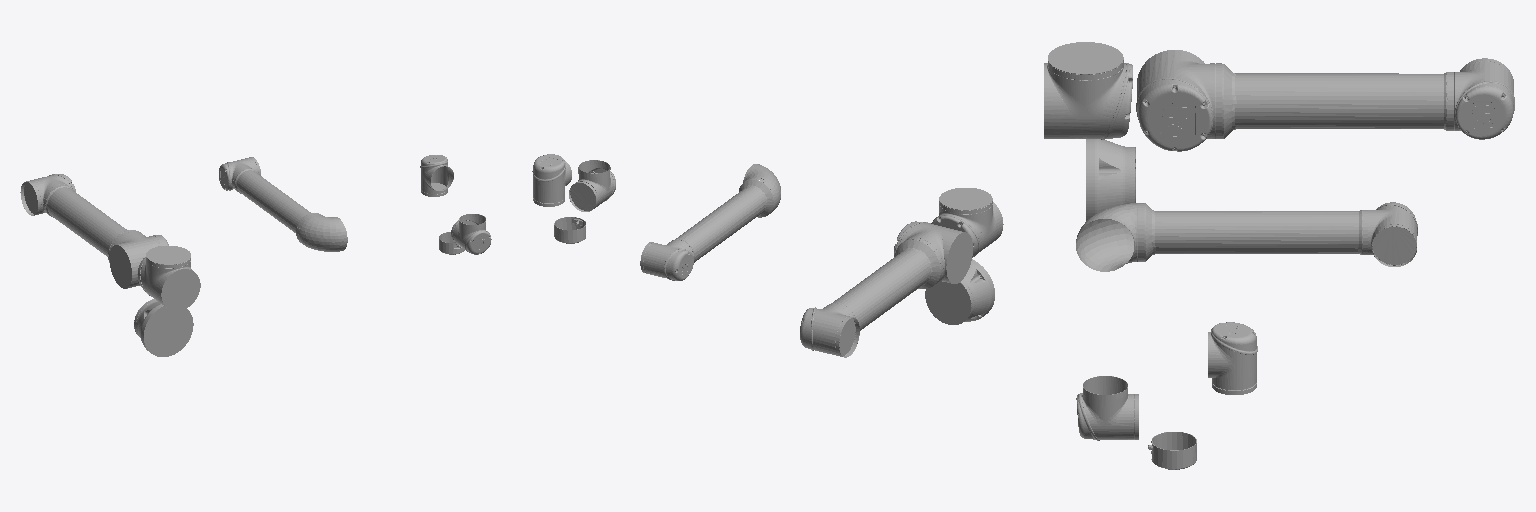
robot.urdf — UniversalRobots_UR10e:
<?xml version="1.0" ?>
<robot name="UniversalRobots_UR10e" xmlns:xacro="http://ros.org/wiki/xacro">
  <link name="base_link">
    <visual>
      <geometry>
        <mesh filename="package://UR10e/visual/base.dae"/>
      </geometry>
      <material name="LightGrey">
        <color rgba="0.7 0.7 0.7 1.0"/>
      </material>
    </visual>
    <collision>
      <geometry>
        <mesh filename="package://UR10e/collision/base.stl"/>
      </geometry>
    </collision>
    <inertial>
      <mass value="4.0"/>
      <origin rpy="0 0 0" xyz="0.0 0.0 0.0"/>
      <inertia ixx="0.0061063308908" ixy="0.0" ixz="0.0" iyy="0.0061063308908" iyz="0.0" izz="0.01125"/>
    </inertial>
  </link>
  <joint name="Joint1" type="revolute">
    <parent link="base_link"/>
    <child link="shoulder_link"/>
    <origin rpy="0.0 0.0 0.0" xyz="0.0 0.0 0.181"/>
    <axis xyz="0 0 1"/>
    <limit effort="330.0" lower="-6.28318530718" upper="6.28318530718" velocity="3.14"/>
    <dynamics damping="0.0" friction="0.0"/>
  </joint>
  <link name="shoulder_link">
    <visual>
      <geometry>
        <mesh filename="package://UR10e/visual/shoulder.dae"/>
      </geometry>
      <material name="LightGrey">
        <color rgba="0.7 0.7 0.7 1.0"/>
      </material>
    </visual>
    <collision>
      <geometry>
        <mesh filename="package://UR10e/collision/shoulder.stl"/>
      </geometry>
    </collision>
    <inertial>
      <mass value="7.778"/>
      <origin rpy="0 0 0" xyz="0.0 0.0 0.0"/>
      <inertia ixx="0.0314743125769" ixy="0.0" ixz="0.0" iyy="0.0314743125769" iyz="0.0" izz="0.021875625"/>
    </inertial>
  </link>
  <joint name="Joint2" type="revolute">
    <parent link="shoulder_link"/>
    <child link="upper_arm_link"/>
    <origin rpy="0.0 1.57079632679 0.0" xyz="0.0 0.176 0.0"/>
    <axis xyz="0 1 0"/>
    <limit effort="330.0" lower="-6.28318530718" upper="6.28318530718" velocity="3.14"/>
    <dynamics damping="0.0" friction="0.0"/>
  </joint>
  <link name="upper_arm_link">
    <visual>
      <geometry>
        <mesh filename="package://UR10e/visual/upperarm.dae"/>
      </geometry>
      <material name="LightGrey">
        <color rgba="0.7 0.7 0.7 1.0"/>
      </material>
    </visual>
    <collision>
      <geometry>
        <mesh filename="package://UR10e/collision/upperarm.stl"/>
      </geometry>
    </collision>
    <inertial>
      <mass value="12.93"/>
      <origin rpy="0 0 0" xyz="0.0 0.0 0.3065"/>
      <inertia ixx="0.42307374077" ixy="0.0" ixz="0.0" iyy="0.42307374077" iyz="0.0" izz="0.036365625"/>
    </inertial>
  </link>
  <joint name="Joint3" type="revolute">
    <parent link="upper_arm_link"/>
    <child link="forearm_link"/>
    <origin rpy="0.0 0.0 0.0" xyz="0.0 -0.137 0.613"/>
    <axis xyz="0 1 0"/>
    <limit effort="150.0" lower="-3.14159265359" upper="3.14159265359" velocity="3.14"/>
    <dynamics damping="0.0" friction="0.0"/>
  </joint>
  <link name="forearm_link">
    <visual>
      <geometry>
        <mesh filename="package://UR10e/visual/forearm.dae"/>
      </geometry>
      <material name="LightGrey">
        <color rgba="0.7 0.7 0.7 1.0"/>
      </material>
    </visual>
    <collision>
      <geometry>
        <mesh filename="package://UR10e/collision/forearm.stl"/>
      </geometry>
    </collision>
    <inertial>
      <mass value="3.87"/>
      <origin rpy="0 0 0" xyz="0.0 0.0 0.2855"/>
      <inertia ixx="0.110590365764" ixy="0.0" ixz="0.0" iyy="0.110590365764" iyz="0.0" izz="0.010884375"/>
    </inertial>
  </link>
  <joint name="Joint4" type="revolute">
    <parent link="forearm_link"/>
    <child link="wrist_1_link"/>
    <origin rpy="0.0 1.57079632679 0.0" xyz="0.0 0.0 0.571"/>
    <axis xyz="0 1 0"/>
    <limit effort="54.0" lower="-6.28318530718" upper="6.28318530718" velocity="6.28"/>
    <dynamics damping="0.0" friction="0.0"/>
  </joint>
  <link name="wrist_1_link">
    <visual>
      <geometry>
        <mesh filename="package://UR10e/visual/wrist1.dae"/>
      </geometry>
      <material name="LightGrey">
        <color rgba="0.7 0.7 0.7 1.0"/>
      </material>
    </visual>
    <collision>
      <geometry>
        <mesh filename="package://UR10e/collision/wrist1.stl"/>
      </geometry>
    </collision>
    <inertial>
      <mass value="1.96"/>
      <origin rpy="0 0 0" xyz="0.0 0.135 0.0"/>
      <inertia ixx="0.0051082479567" ixy="0.0" ixz="0.0" iyy="0.0051082479567" iyz="0.0" izz="0.0055125"/>
    </inertial>
  </link>
  <joint name="Joint5" type="revolute">
    <parent link="wrist_1_link"/>
    <child link="wrist_2_link"/>
    <origin rpy="0.0 0.0 0.0" xyz="0.0 0.135 0.0"/>
    <axis xyz="0 0 1"/>
    <limit effort="54.0" lower="-6.28318530718" upper="6.28318530718" velocity="6.28"/>
    <dynamics damping="0.0" friction="0.0"/>
  </joint>
  <link name="wrist_2_link">
    <visual>
      <geometry>
        <mesh filename="package://UR10e/visual/wrist2.dae"/>
      </geometry>
      <material name="LightGrey">
        <color rgba="0.7 0.7 0.7 1.0"/>
      </material>
    </visual>
    <collision>
      <geometry>
        <mesh filename="package://UR10e/collision/wrist2.stl"/>
      </geometry>
    </collision>
    <inertial>
      <mass value="1.96"/>
      <origin rpy="0 0 0" xyz="0.0 0.0 0.12"/>
      <inertia ixx="0.0051082479567" ixy="0.0" ixz="0.0" iyy="0.0051082479567" iyz="0.0" izz="0.0055125"/>
    </inertial>
  </link>
  <joint name="Joint6" type="revolute">
    <parent link="wrist_2_link"/>
    <child link="wrist_3_link"/>
    <origin rpy="0.0 0.0 0.0" xyz="0.0 0.0 0.12"/>
    <axis xyz="0 1 0"/>
    <limit effort="54.0" lower="-6.28318530718" upper="6.28318530718" velocity="6.28"/>
    <dynamics damping="0.0" friction="0.0"/>
  </joint>
  <link name="wrist_3_link">
    <visual>
      <geometry>
        <mesh filename="package://UR10e/visual/wrist3.dae"/>
      </geometry>
      <material name="LightGrey">
        <color rgba="0.7 0.7 0.7 1.0"/>
      </material>
    </visual>
    <collision>
      <geometry>
        <mesh filename="package://UR10e/collision/wrist3.stl"/>
      </geometry>
    </collision>
    <inertial>
      <mass value="0.202"/>
      <origin rpy="1.57079632679 0 0" xyz="0.0 0.092 0.0"/>
      <inertia ixx="0.000144345775595" ixy="0.0" ixz="0.0" iyy="0.000144345775595" iyz="0.0" izz="0.000204525"/>
    </inertial>
  </link>
  <joint name="JointEffector" type="fixed">
    <parent link="wrist_3_link"/>
    <child link="ee_link"/>
    <origin rpy="0.0 0.0 1.57079632679" xyz="0.0 0.092 0.0"/>
  </joint>
    <link name="ee_link">
    <collision>
      <geometry>
        <box size="0.01 0.01 0.01"/>
      </geometry>
      <origin rpy="0 0 0" xyz="-0.01 0 0"/>
    </collision>
  </link>
  <chain_pair>
    <base name="Joint1"/>
    <end name="JointEffector"/>
  </chain_pair>
</robot>

--- Facts derived from the render (not from the file) ---
3 views of the same robot in one strip: view 1: azimuth 30°, elevation 25°; view 2: azimuth 150°, elevation 25°; view 3: azimuth 270°, elevation 25° (orthographic).
Robot: UniversalRobots_UR10e — 8 links, 7 joints (6 revolute, 1 fixed); root link base_link; default pose: all joints at 0.
Links seen in each view (by area): view 1: upper_arm_link, forearm_link, shoulder_link, base_link, wrist_1_link, wrist_2_link; view 2: upper_arm_link, forearm_link, shoulder_link, base_link, wrist_1_link, wrist_2_link, wrist_3_link; view 3: upper_arm_link, forearm_link, shoulder_link, wrist_1_link, base_link, wrist_2_link, wrist_3_link.
Link boxes in pixels (bbox=[...]): upper_arm_link: bbox=[20, 174, 168, 288]; forearm_link: bbox=[219, 157, 347, 251]; shoulder_link: bbox=[137, 246, 200, 310]; base_link: bbox=[134, 299, 193, 356]; wrist_1_link: bbox=[451, 214, 491, 254]; wrist_2_link: bbox=[420, 155, 453, 196]; upper_arm_link: bbox=[800, 221, 972, 357]; forearm_link: bbox=[640, 164, 780, 280]; shoulder_link: bbox=[931, 188, 1003, 257]; base_link: bbox=[925, 259, 994, 324]; wrist_1_link: bbox=[569, 160, 615, 211]; wrist_2_link: bbox=[532, 154, 571, 206]; wrist_3_link: bbox=[554, 217, 585, 243]; upper_arm_link: bbox=[1136, 50, 1514, 151]; forearm_link: bbox=[1076, 202, 1417, 271]; shoulder_link: bbox=[1044, 42, 1132, 139]; wrist_1_link: bbox=[1076, 376, 1138, 440]; base_link: bbox=[1086, 139, 1135, 220]; wrist_2_link: bbox=[1208, 322, 1257, 394]; wrist_3_link: bbox=[1148, 432, 1196, 469].
Size in the robot's own frame: 1.33 by 0.9301 by 0.3705 metres.
7 mesh visuals loaded from 7 distinct referenced files (7 Collada DAE).